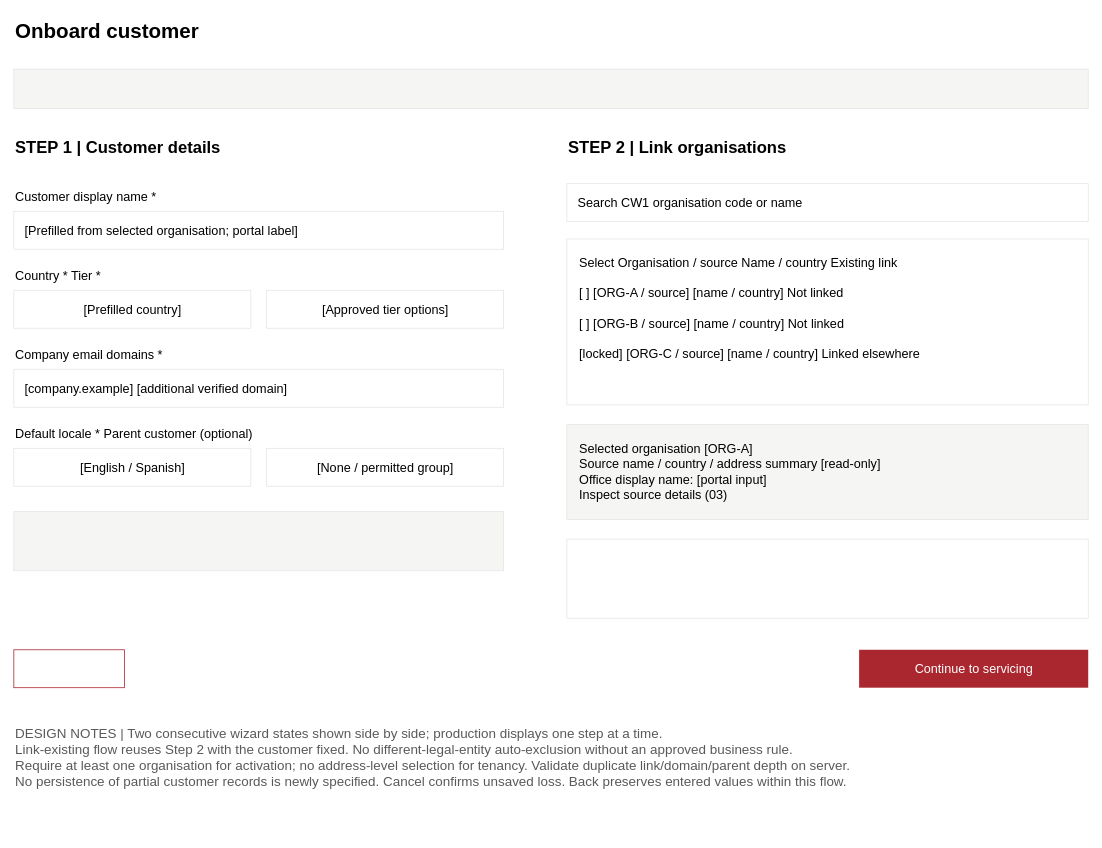
The diagram is 1102 pixels wide and 848 high, and some of its shapes have lost their labels. The centre of each missing label's shape, as x and y in pixels:
"1 Customer details 2 Link organisations 3 Servicing 4 First admin 5 Review" belongs at point 550,88.
"Cancel" belongs at point 68,668.
"Initial entitlements [Approved defaults] Review features (09)" belongs at point 258,541.
"Link justification * [Customer relationship evidence and reason]" belongs at point 827,578.
